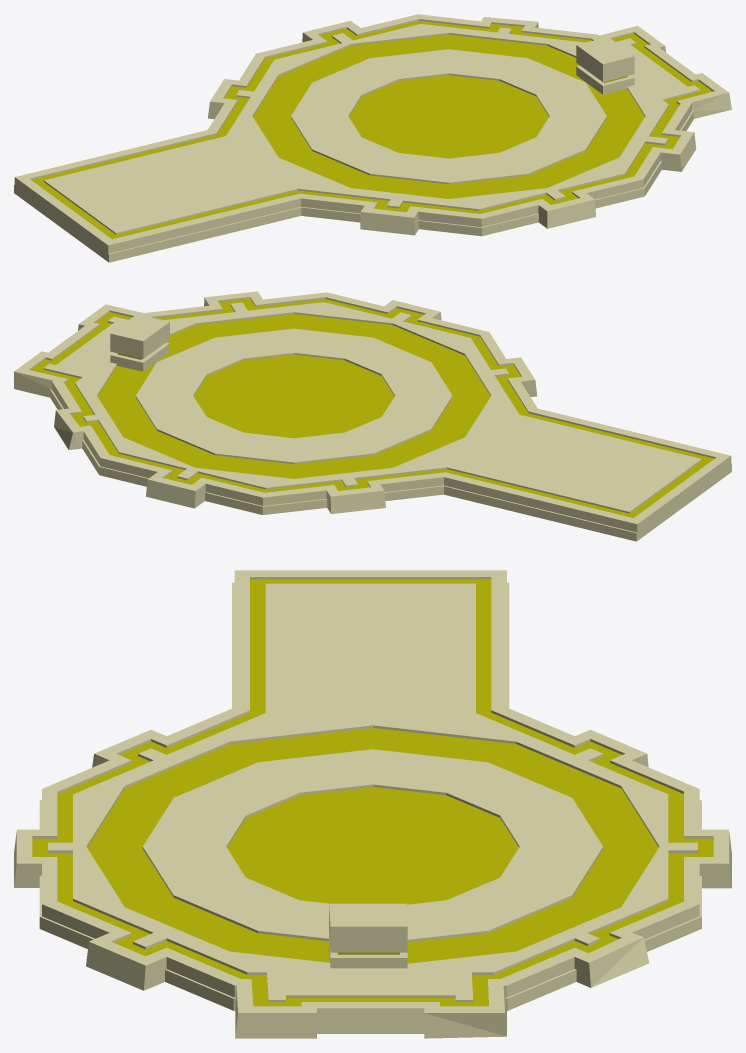
File: Platform.fbx
The picture shows the model from 3 angles, top to bottom: view 1: azimuth 30°, elevation 25°; view 2: azimuth 150°, elevation 25°; view 3: azimuth 270°, elevation 25°; orthographic projection. The views are drawn at different scales.
Visible parts, largest first — view 1: Prop_Jungle_Temple_Altar_Platform_01.001, Prop_Jungle_Temple_Altar_Platform_01; view 2: Prop_Jungle_Temple_Altar_Platform_01.001, Prop_Jungle_Temple_Altar_Platform_01; view 3: Prop_Jungle_Temple_Altar_Platform_01.001, Prop_Jungle_Temple_Altar_Platform_01.
Part boxes in pixels (left/top/right/bottom): Prop_Jungle_Temple_Altar_Platform_01.001: left=14, top=14, right=731, bottom=262; Prop_Jungle_Temple_Altar_Platform_01: left=31, top=21, right=712, bottom=239; Prop_Jungle_Temple_Altar_Platform_01.001: left=14, top=291, right=731, bottom=541; Prop_Jungle_Temple_Altar_Platform_01: left=31, top=298, right=714, bottom=517; Prop_Jungle_Temple_Altar_Platform_01.001: left=14, top=570, right=731, bottom=1038; Prop_Jungle_Temple_Altar_Platform_01: left=32, top=579, right=713, bottom=1006.
Bounding box in the file's own units: 1843 × 128 × 1260.
